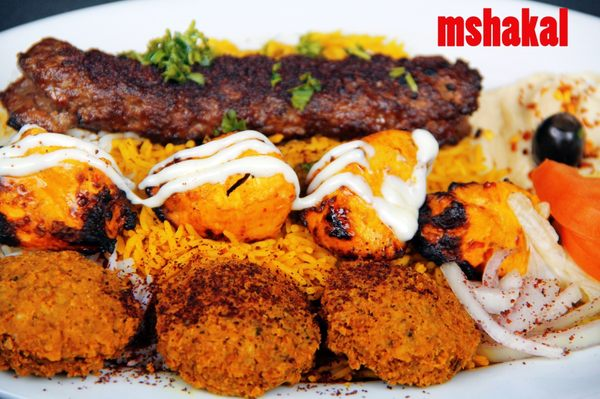pizza: (529, 159, 600, 288)
